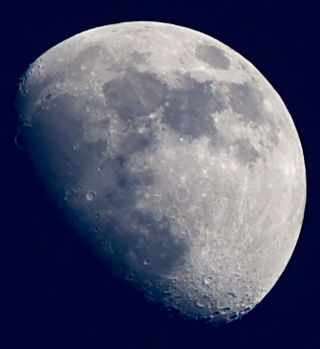crater: (173, 177, 192, 207), (255, 94, 278, 117), (81, 186, 102, 205), (194, 293, 212, 310), (92, 159, 107, 176), (204, 271, 218, 287), (42, 89, 58, 101), (138, 255, 155, 266), (90, 210, 107, 219), (87, 66, 101, 76), (90, 224, 103, 234)
